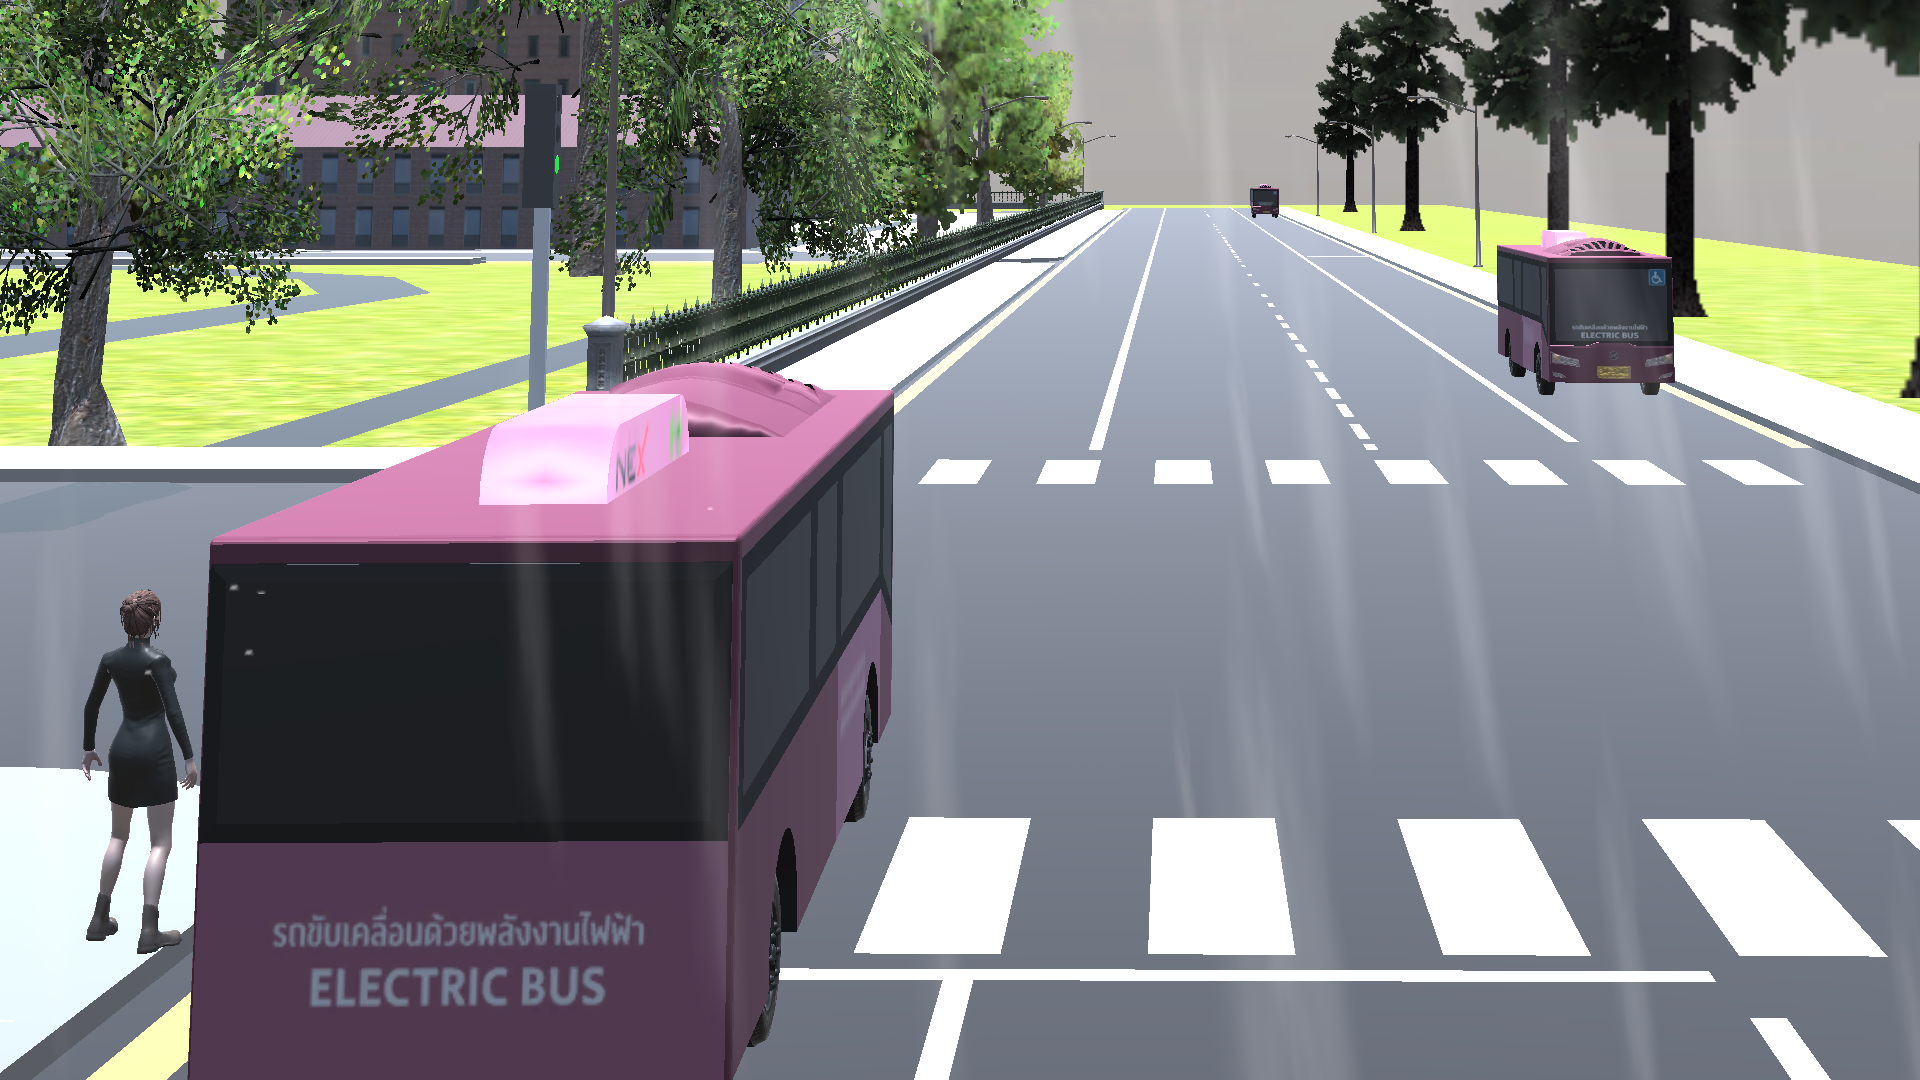pedestrian: (57, 584, 192, 958)
